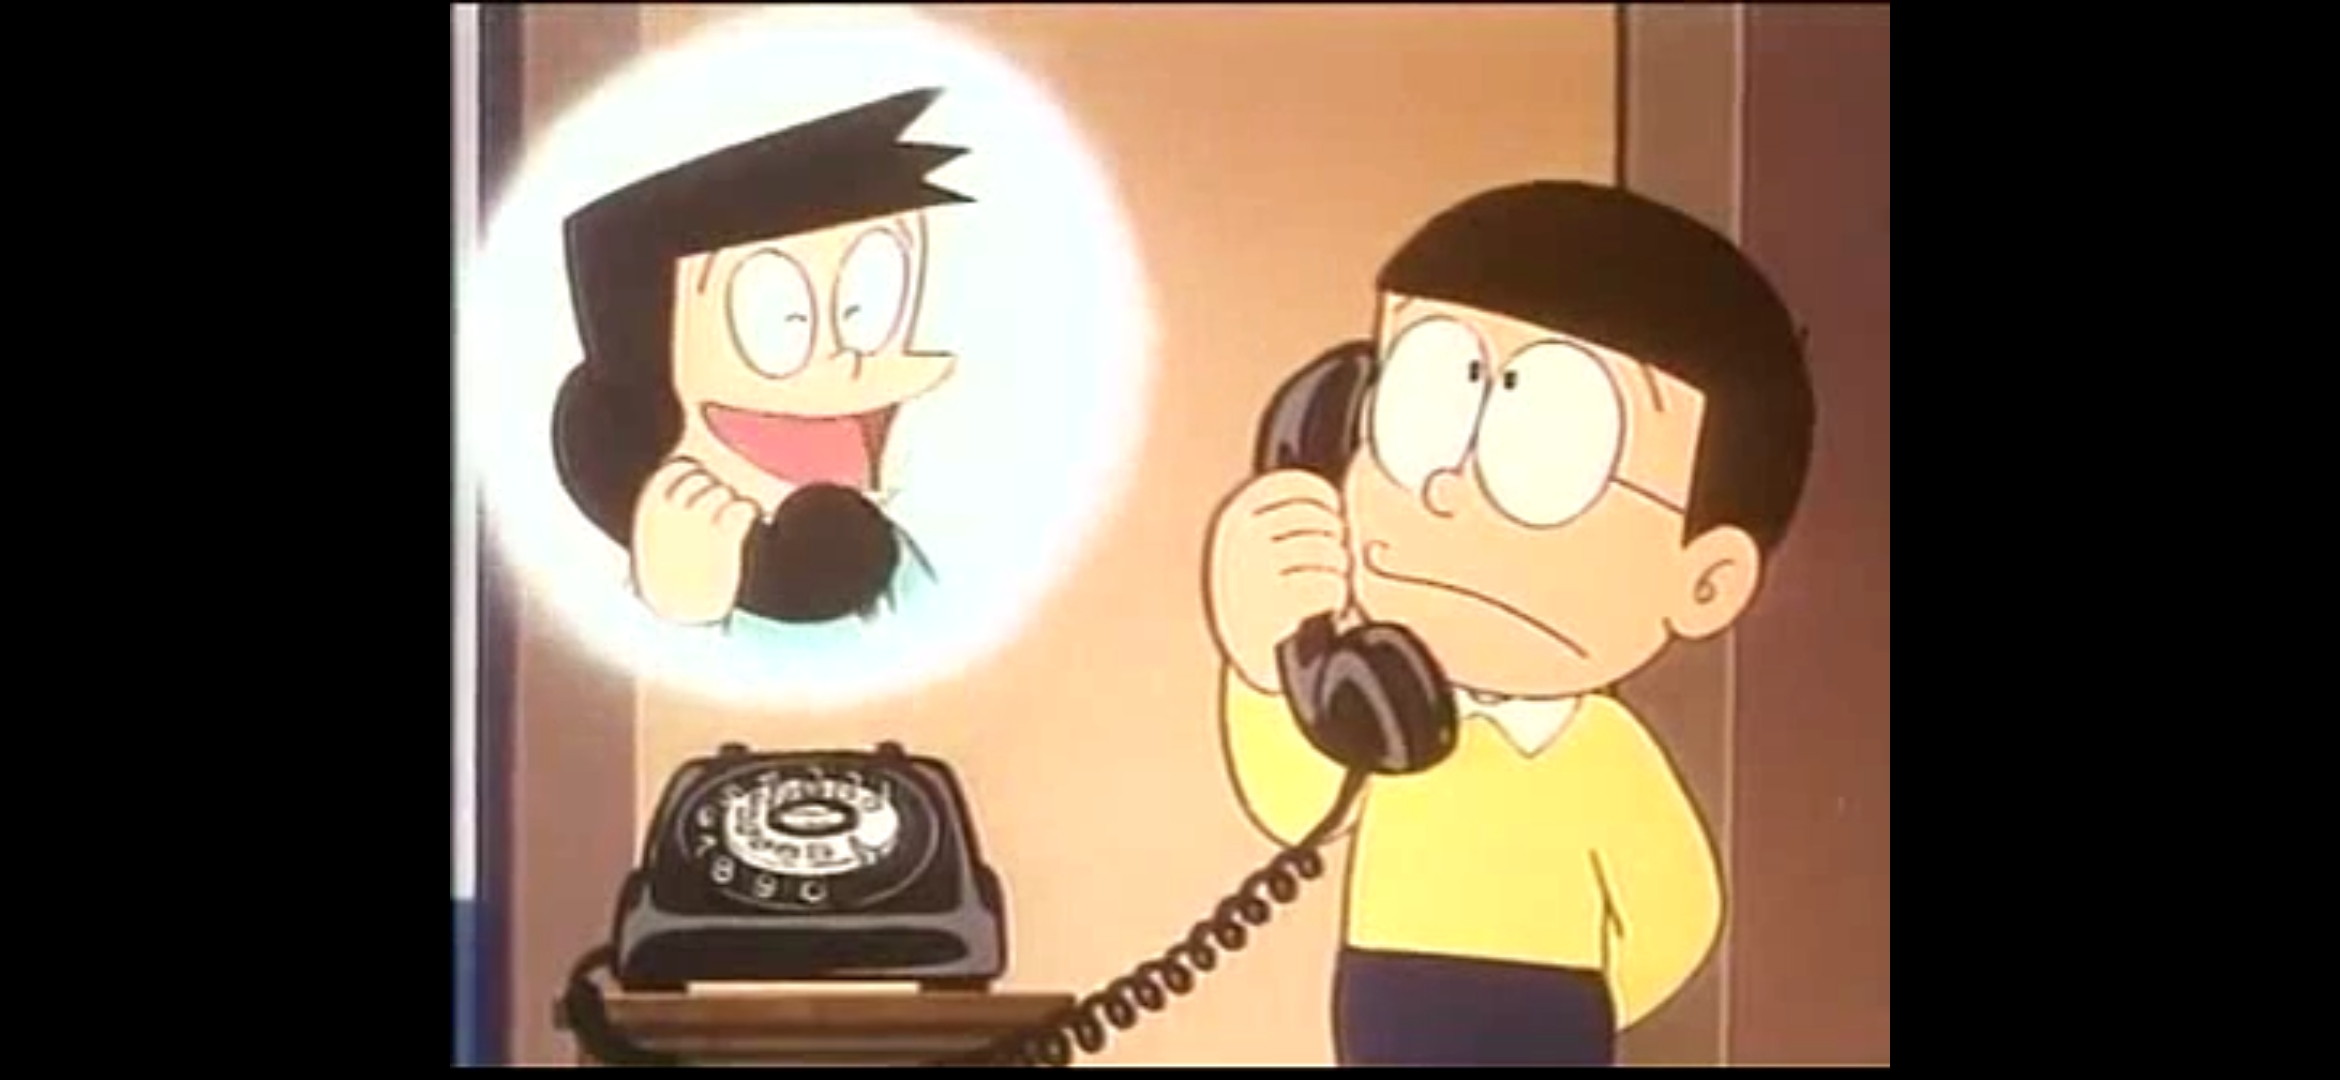Nobi: (1339, 178, 1818, 700)
Suneo: (563, 82, 975, 509)
